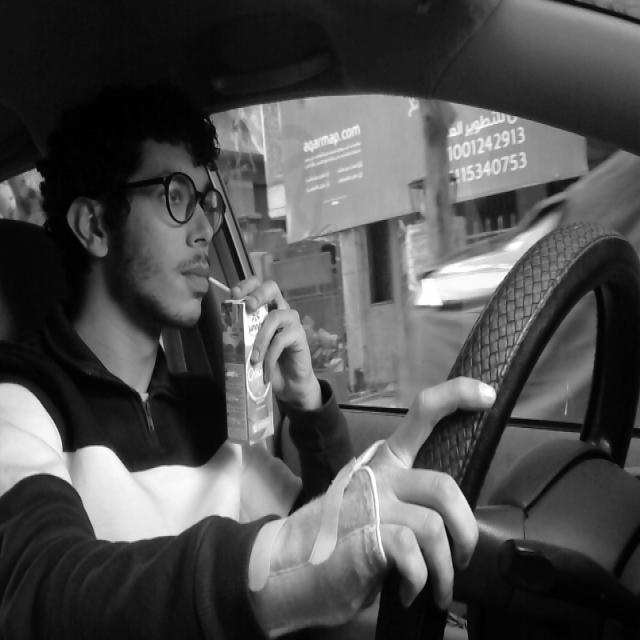drinking: (202, 268, 286, 442)
